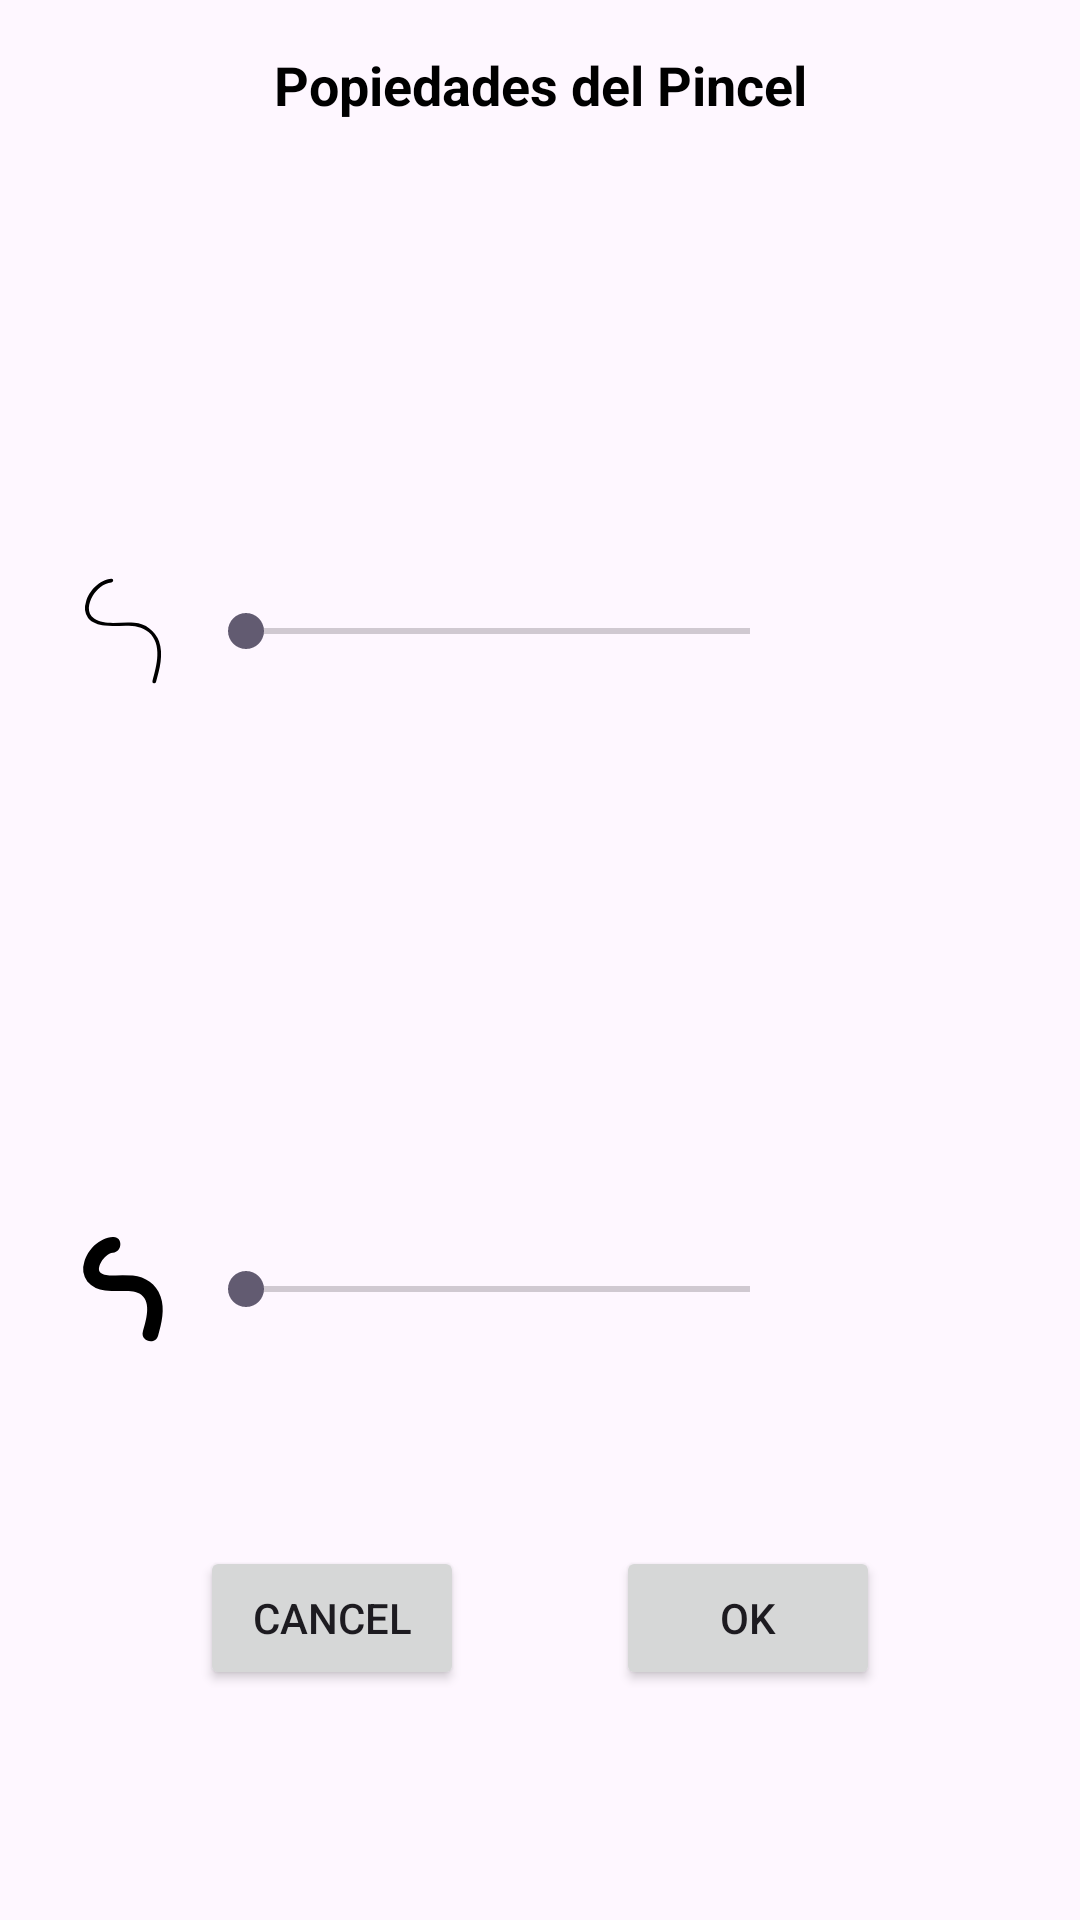

Named icons in this screenshot (1080*1920) and their centers, point (x, y):
trazo fino: point (123, 631)
trazo grueso: point (123, 1289)
